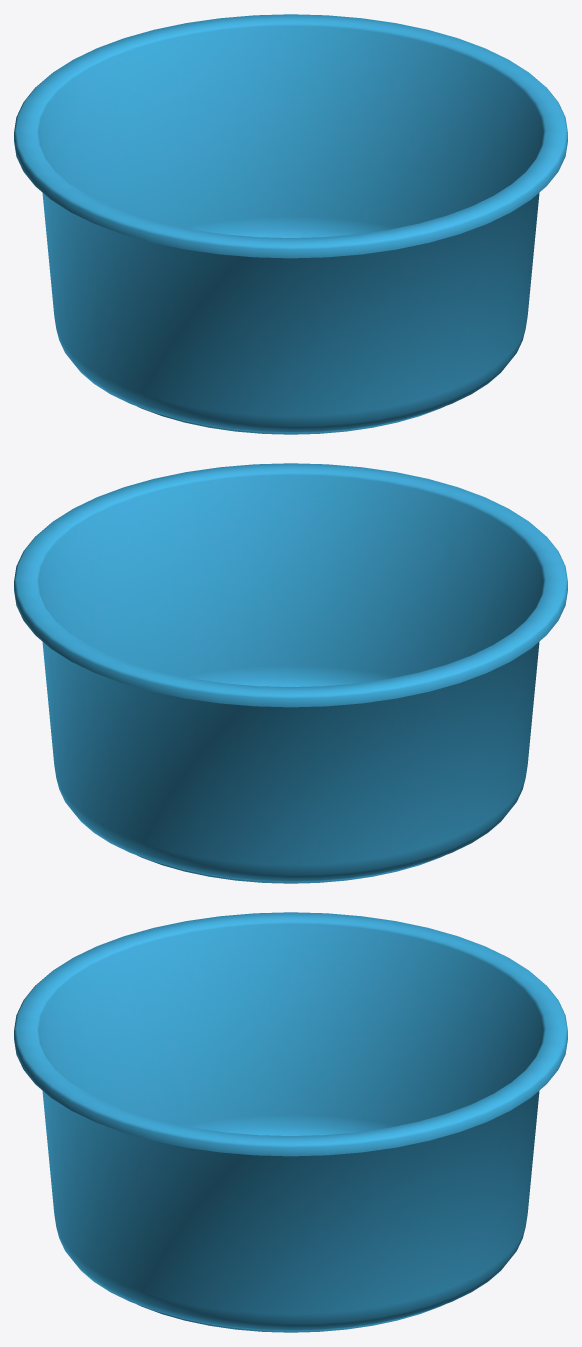
The model's file is wash_basin.glb.
3 renders of one model, top to bottom at view 1: azimuth 30°, elevation 25°; view 2: azimuth 150°, elevation 25°; view 3: azimuth 270°, elevation 25°, orthographic.
Parts seen in each view (by area): view 1: Plastic Wash Basin_PlasticWashBasin_0; view 2: Plastic Wash Basin_PlasticWashBasin_0; view 3: Plastic Wash Basin_PlasticWashBasin_0.
Boxes of the visible parts, x1,y1,x2,y2 form: Plastic Wash Basin_PlasticWashBasin_0: [14, 14, 567, 434]; Plastic Wash Basin_PlasticWashBasin_0: [14, 463, 567, 883]; Plastic Wash Basin_PlasticWashBasin_0: [14, 912, 567, 1332].
Size of the model in its own units: 0.2742 by 0.1175 by 0.2742.
Materials: 1 (1 with a texture image).
